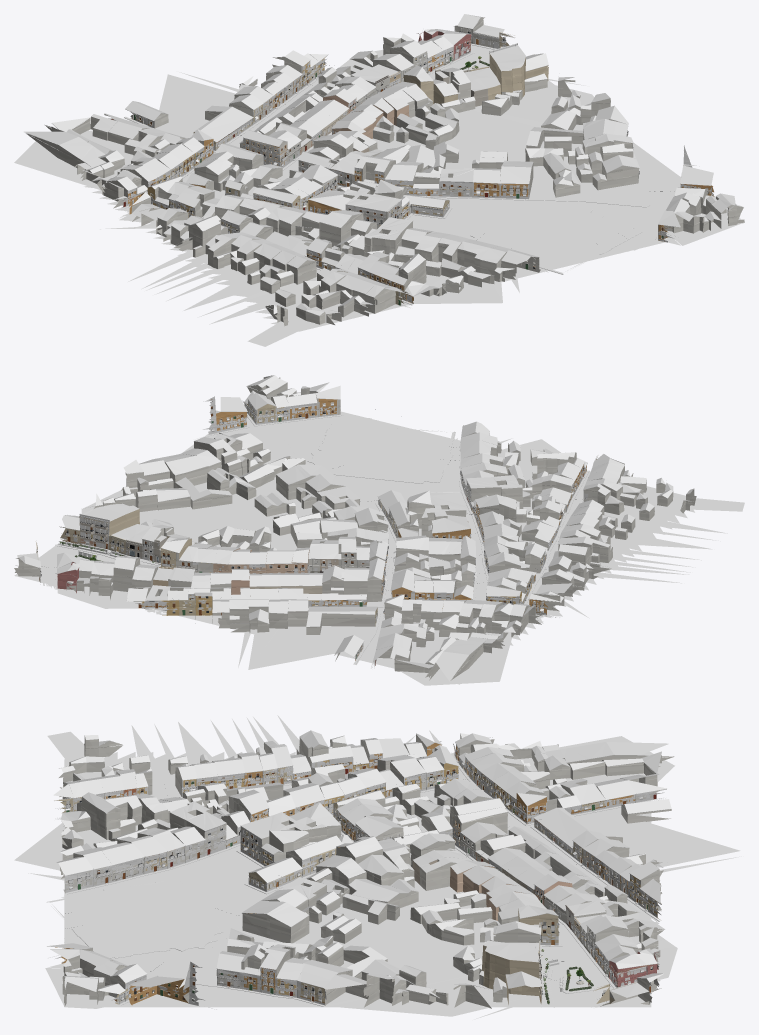
Rendered from zona_-2_-1.glb.
The picture shows the model from 3 angles, top to bottom: view 1: azimuth 30°, elevation 25°; view 2: azimuth 150°, elevation 25°; view 3: azimuth 270°, elevation 25°; orthographic projection. The views are drawn at different scales.
Visible parts, largest first — view 1: z_tejados_-2_-1, z_casas_-2_-1, z_calle_-2_-1, z_fachadas_-2_-1, z_casas_planas_-2_-1, z_suelo_-2_-1; view 2: z_tejados_-2_-1, z_casas_-2_-1, z_calle_-2_-1, z_fachadas_-2_-1, z_casas_planas_-2_-1, z_suelo_-2_-1; view 3: z_tejados_-2_-1, z_calle_-2_-1, z_casas_-2_-1, z_fachadas_-2_-1, z_casas_planas_-2_-1, z_suelo_-2_-1.
Boxes of the visible parts, x1,y1,x2,y2 form: z_tejados_-2_-1: (24, 14, 743, 315); z_casas_-2_-1: (26, 17, 744, 326); z_calle_-2_-1: (14, 43, 743, 346); z_fachadas_-2_-1: (104, 28, 713, 305); z_casas_planas_-2_-1: (113, 25, 695, 277); z_suelo_-2_-1: (123, 45, 672, 305); z_tejados_-2_-1: (15, 375, 693, 681); z_casas_-2_-1: (14, 376, 696, 680); z_calle_-2_-1: (14, 411, 744, 685); z_fachadas_-2_-1: (35, 397, 597, 665); z_casas_planas_-2_-1: (17, 469, 600, 624); z_suelo_-2_-1: (40, 409, 590, 620); z_tejados_-2_-1: (47, 730, 671, 997); z_calle_-2_-1: (14, 715, 741, 1019); z_casas_-2_-1: (54, 734, 674, 1008); z_fachadas_-2_-1: (50, 744, 666, 1006); z_casas_planas_-2_-1: (71, 744, 651, 1004); z_suelo_-2_-1: (61, 741, 659, 1006).
Bounding box in the file's own units: 245 × 16.15 × 247.
